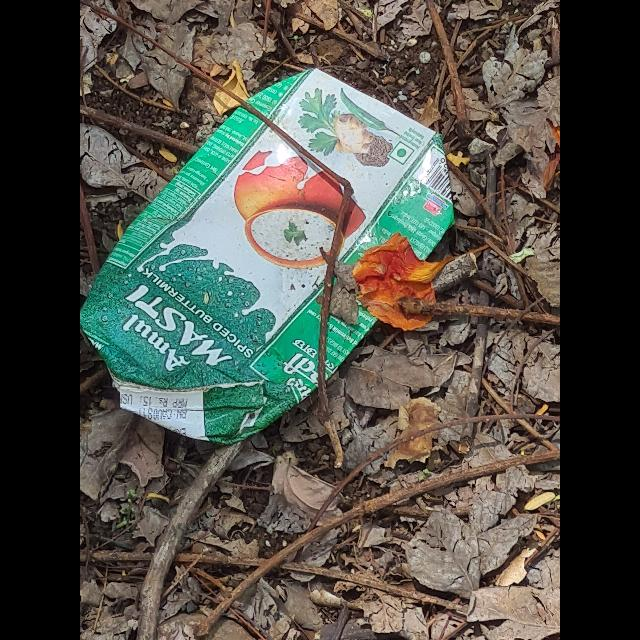trash: (81, 68, 455, 444)
